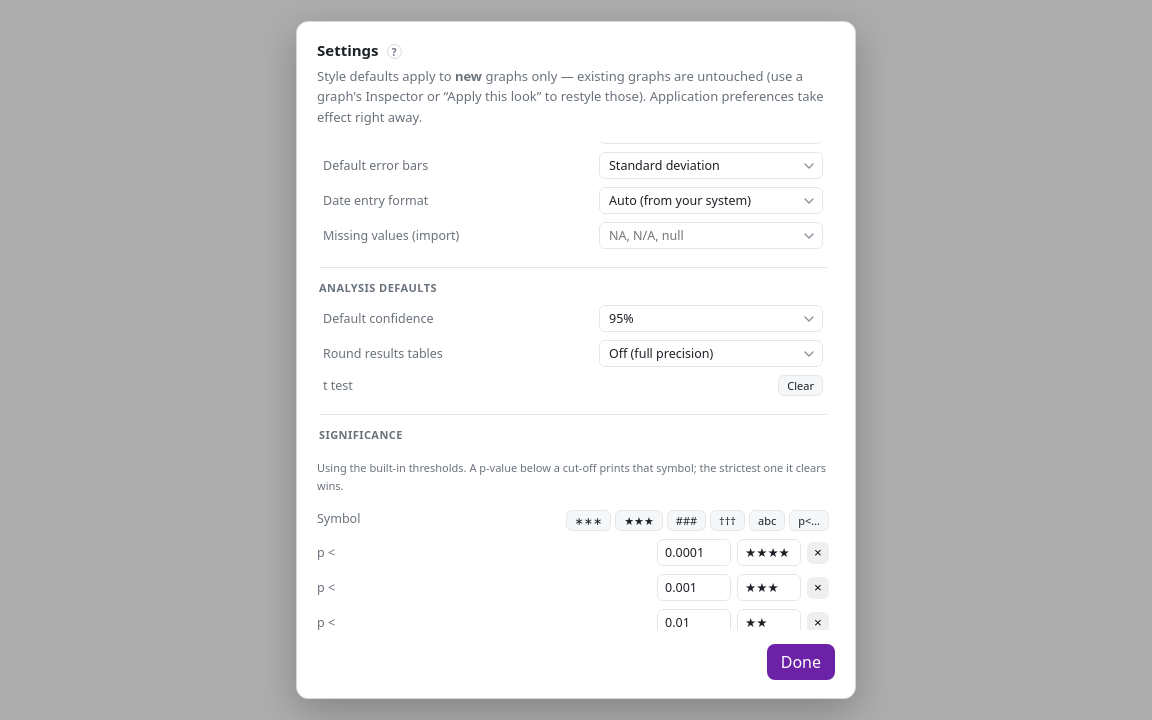
Test: SettingsDialog — application defaults › lists a method's saved analysis default and clears it
(page scrolled)
Click the button "Clear" at (801, 386), box left=778, top=375, right=823, bottom=396
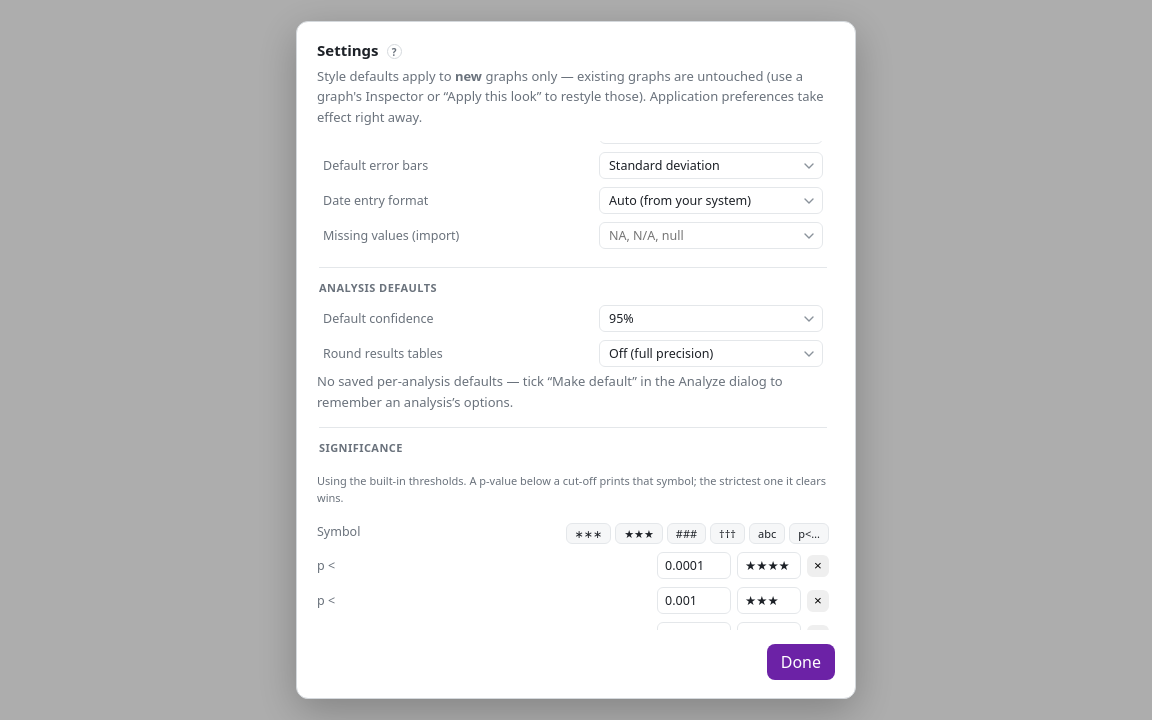
Now the text "No saved per-analysis defaults" is shown, box left=317, top=372, right=783, bottom=411
